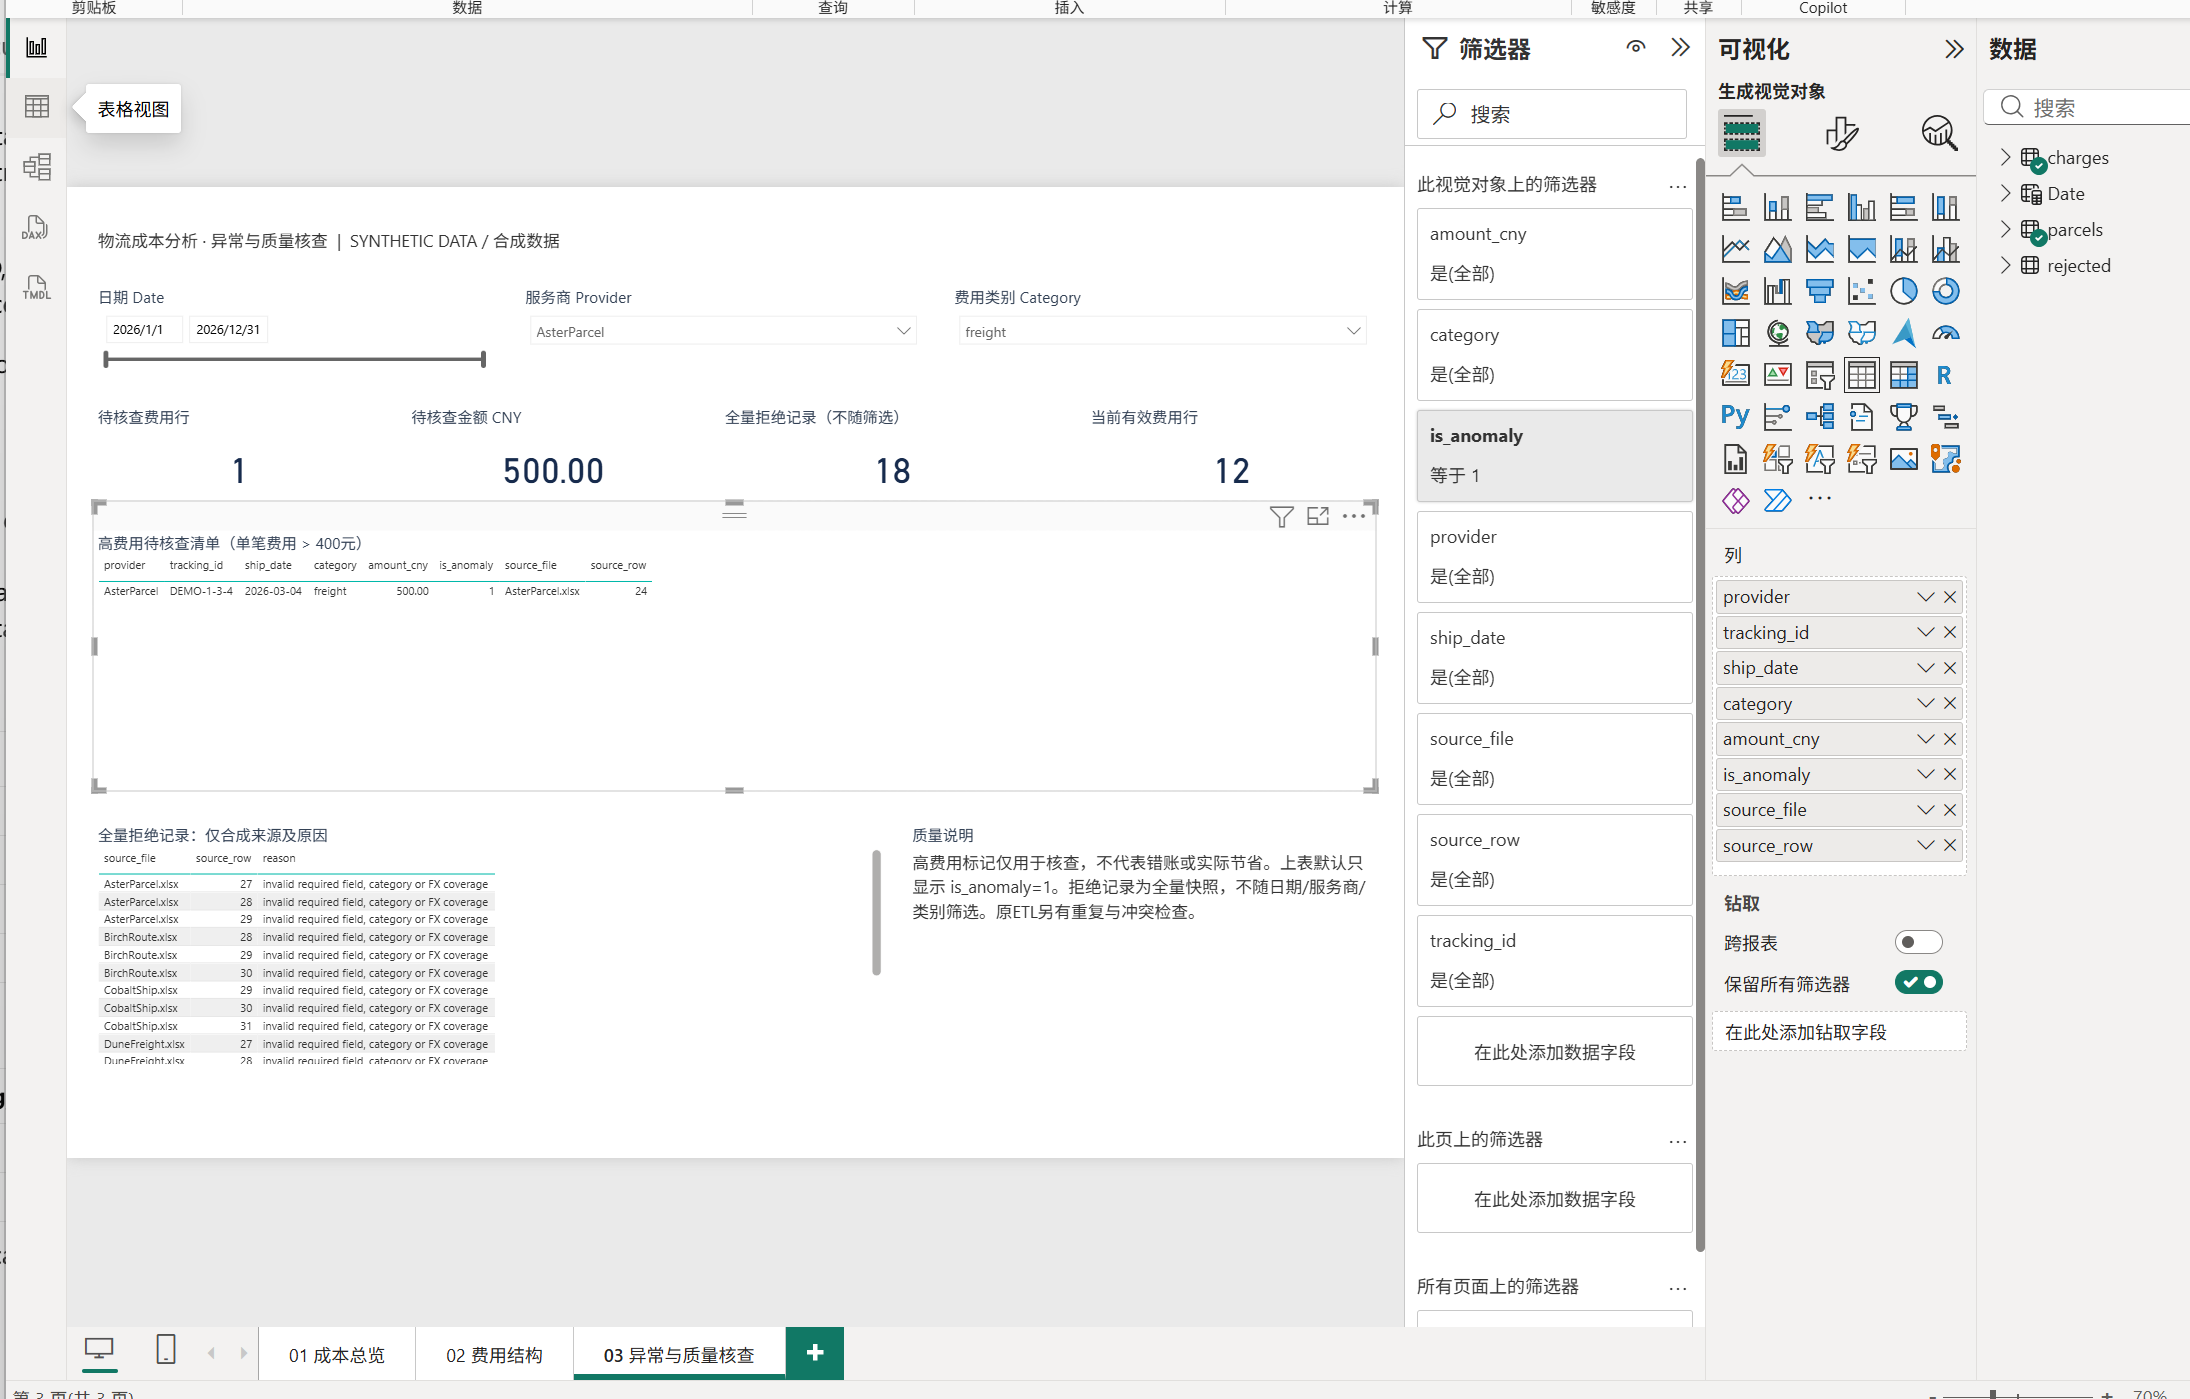

This screenshot's page, from the dashboard's own definition file:
{"tool":"powerbi","page":{"name":"03 异常与质量核查","canvas":[1280,900],"ordinal":2},"visuals":[{"type":"textbox","title":"物流成本分析 · 异常与质量核查","box":[24,5,1230,52],"z":21},{"type":"slicer","title":"日期 Date","fields":{"Values":["Date.Date"]},"box":[24,64,390,100],"z":22},{"type":"slicer","title":"服务商 Provider","fields":{"Values":["parcels.provider"]},"box":[434,64,390,100],"z":23},{"type":"slicer","title":"费用类别 Category","fields":{"Values":["charges.category"]},"box":[844,64,410,100],"z":24},{"type":"card","title":"待核查费用行","fields":{"Values":["charges.Review Charge Lines"]},"box":[24,180,280,100],"z":25},{"type":"card","title":"待核查金额 CNY","fields":{"Values":["charges.Review Cost CNY"]},"box":[324,180,280,100],"z":26},{"type":"card","title":"全量拒绝记录（不随筛选）","fields":{"Values":["charges.Rejected Rows All Data"]},"box":[624,180,330,100],"z":27},{"type":"card","title":"当前有效费用行","fields":{"Values":["charges.Charge Lines"]},"box":[975,180,279,100],"z":28},{"type":"tableEx","title":"高费用待核查清单（单笔费用 > 400元）","fields":{"Values":["parcels.provider","charges.tracking_id","charges.ship_date","charges.category","charges.amount_cny","charges.is_anomaly","charges.source_file","charges.source_row"]},"box":[24,300,1230,250],"z":29},{"type":"tableEx","title":"全量拒绝记录：仅合成来源及原因","fields":{"Values":["rejected.source_file","rejected.source_row","rejected.reason"]},"box":[24,580,760,235],"z":30},{"type":"textbox","title":"质量说明","box":[804,580,450,270],"z":31}]}

Visuals, with their boxes on the page's 1280x900 design canvas (x1, y1, x2, y2). These are canvas units, not pixel positions in the 2190x1399 screenshot, which may show the page scaled, cropped or inside an application window:
"物流成本分析 · 异常与质量核查" textbox: l=24, t=5, r=1254, b=57
"日期 Date" slicer: l=24, t=64, r=414, b=164
"服务商 Provider" slicer: l=434, t=64, r=824, b=164
"费用类别 Category" slicer: l=844, t=64, r=1254, b=164
"待核查费用行" card: l=24, t=180, r=304, b=280
"待核查金额 CNY" card: l=324, t=180, r=604, b=280
"全量拒绝记录（不随筛选）" card: l=624, t=180, r=954, b=280
"当前有效费用行" card: l=975, t=180, r=1254, b=280
"高费用待核查清单（单笔费用 > 400元）" tableEx: l=24, t=300, r=1254, b=550
"全量拒绝记录：仅合成来源及原因" tableEx: l=24, t=580, r=784, b=815
"质量说明" textbox: l=804, t=580, r=1254, b=850
